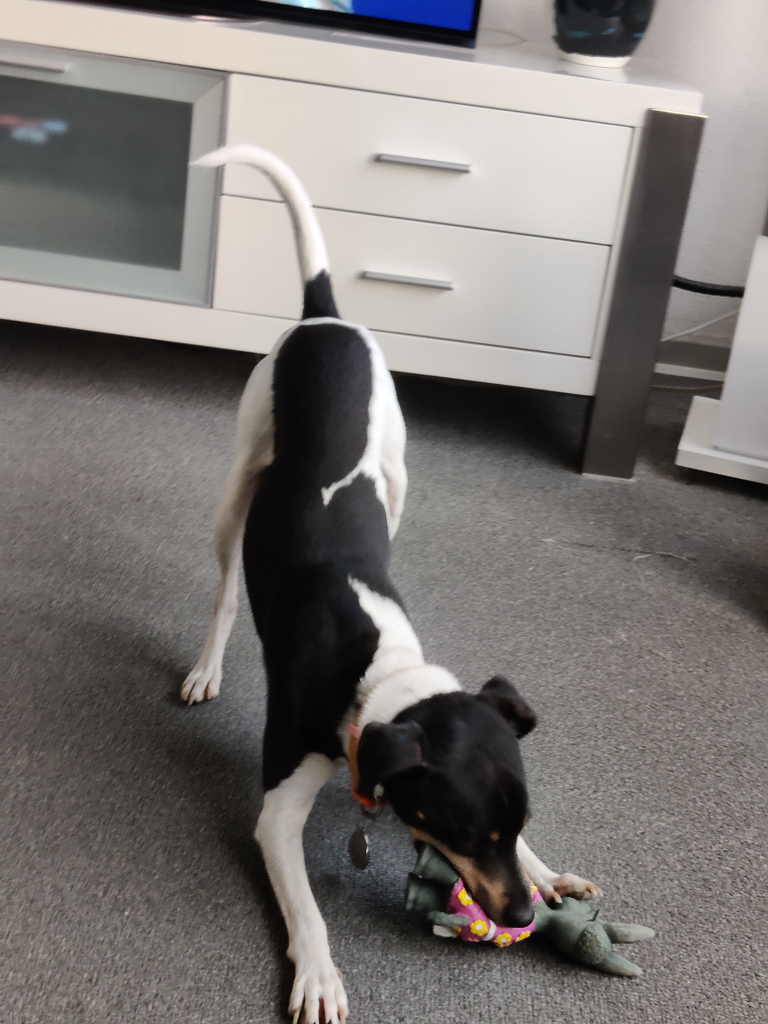Dog: (165, 130, 623, 1024)
Humanoid: (389, 821, 677, 999)
